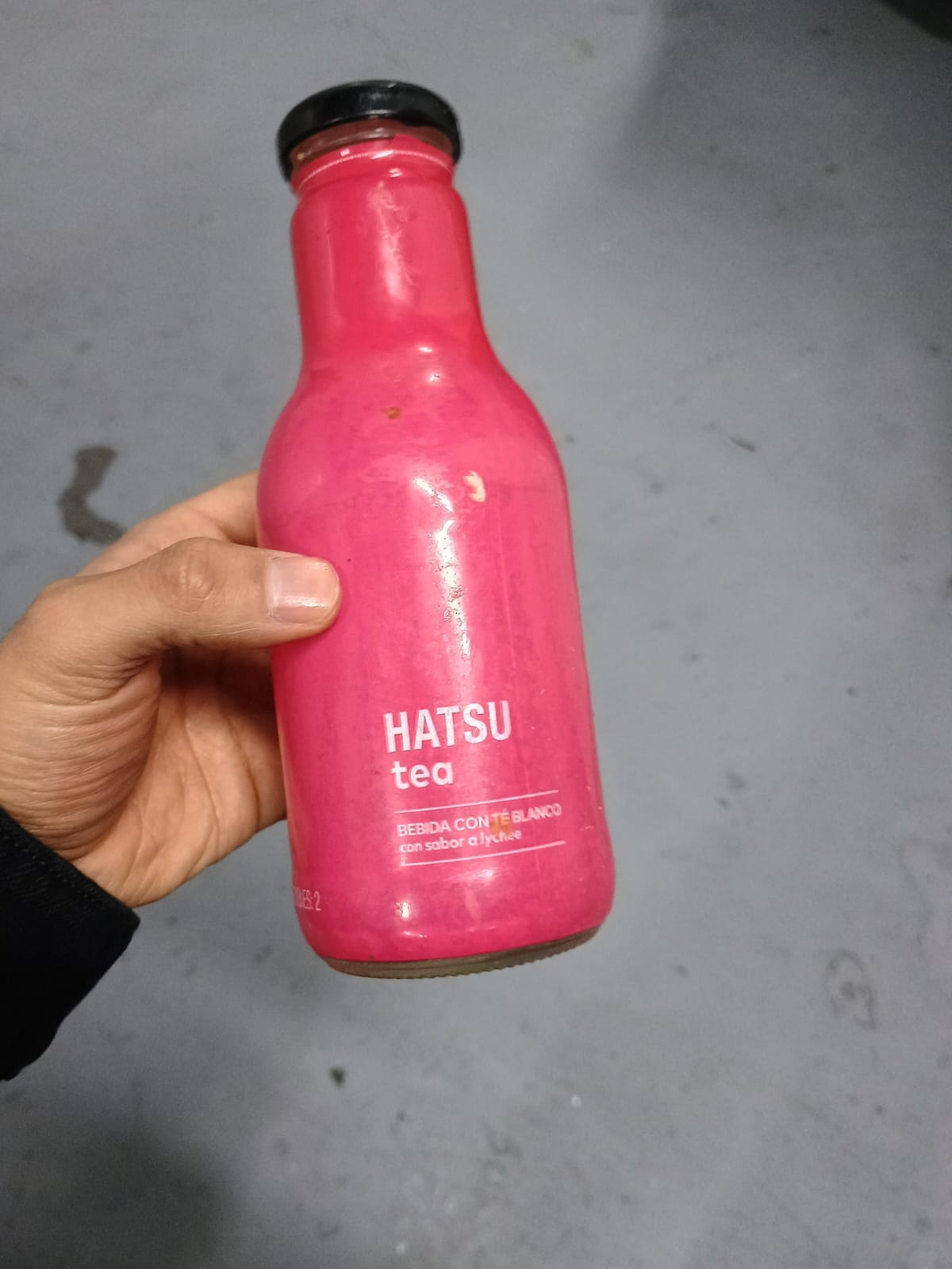Vidrio: (262, 122, 616, 979)
